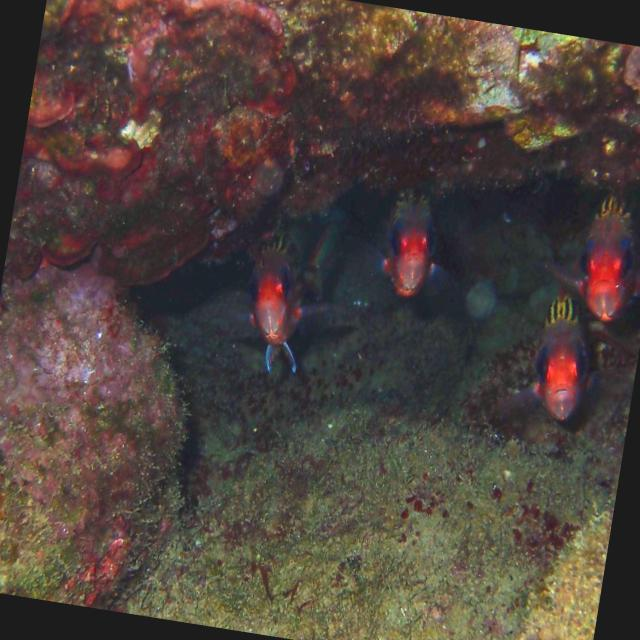Asker Baligi: (220, 213, 333, 392), (362, 175, 452, 318)
